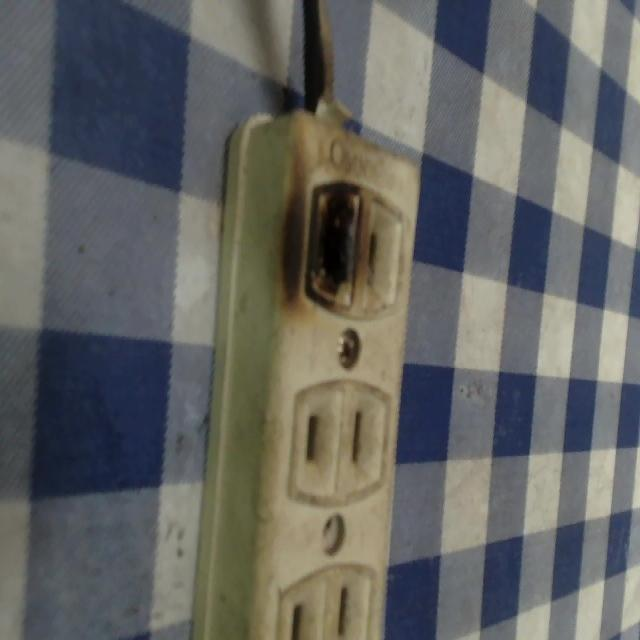-: (295, 180, 369, 319)
